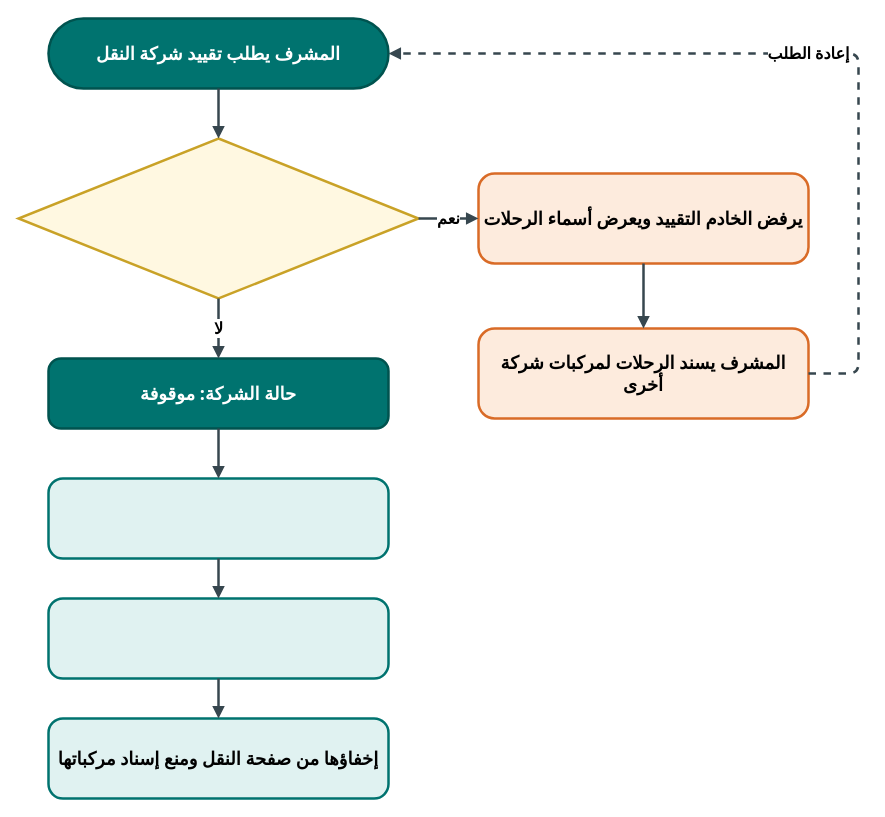
Some shapes in this 885 by 817 pixel diagram are drawn without their labels. Each missing label, with the centre of its shape:
"إيقاف سائقي الشركة عن العمل" goes at (x=218, y=638).
"منع دخول الشركة ورفض جلساتها القديمة" goes at (x=218, y=518).
"هل لمركبات الشركة رحلات قادمة أو جارية؟" goes at (x=218, y=218).
